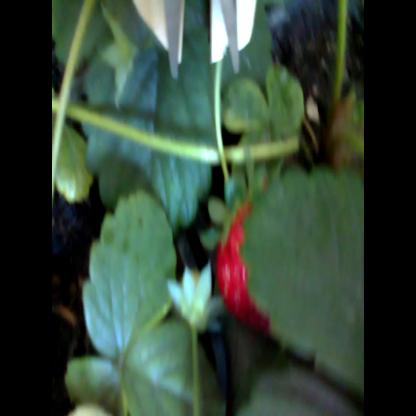ripe: (207, 189, 290, 338)
